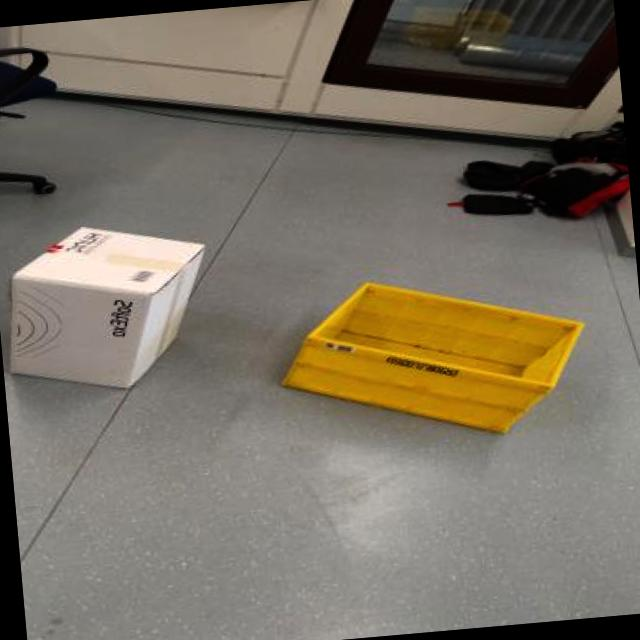box: (261, 252, 604, 466), (0, 210, 236, 416)
